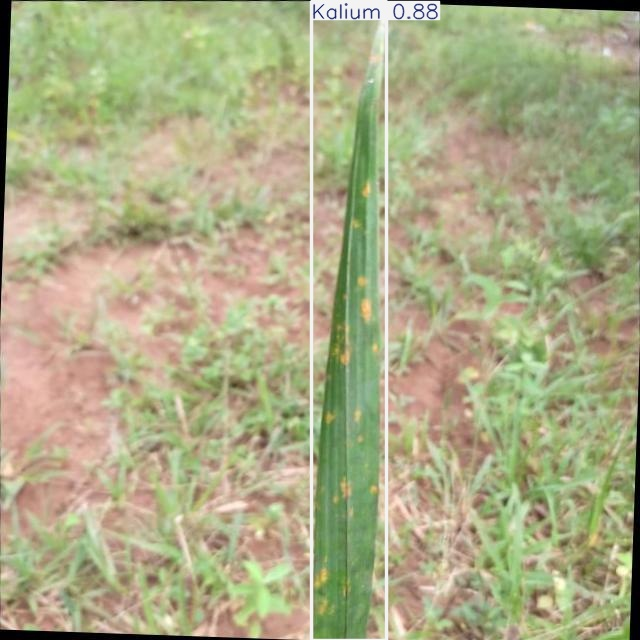Kalium: (311, 2, 387, 640)
